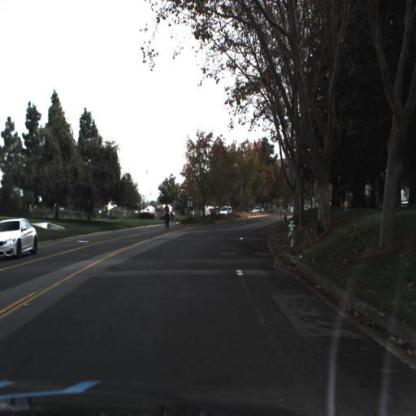biker: (162, 200, 174, 231), (164, 200, 172, 231)
car: (2, 218, 42, 262)
pedestrian: (364, 176, 377, 216), (365, 180, 373, 208)
